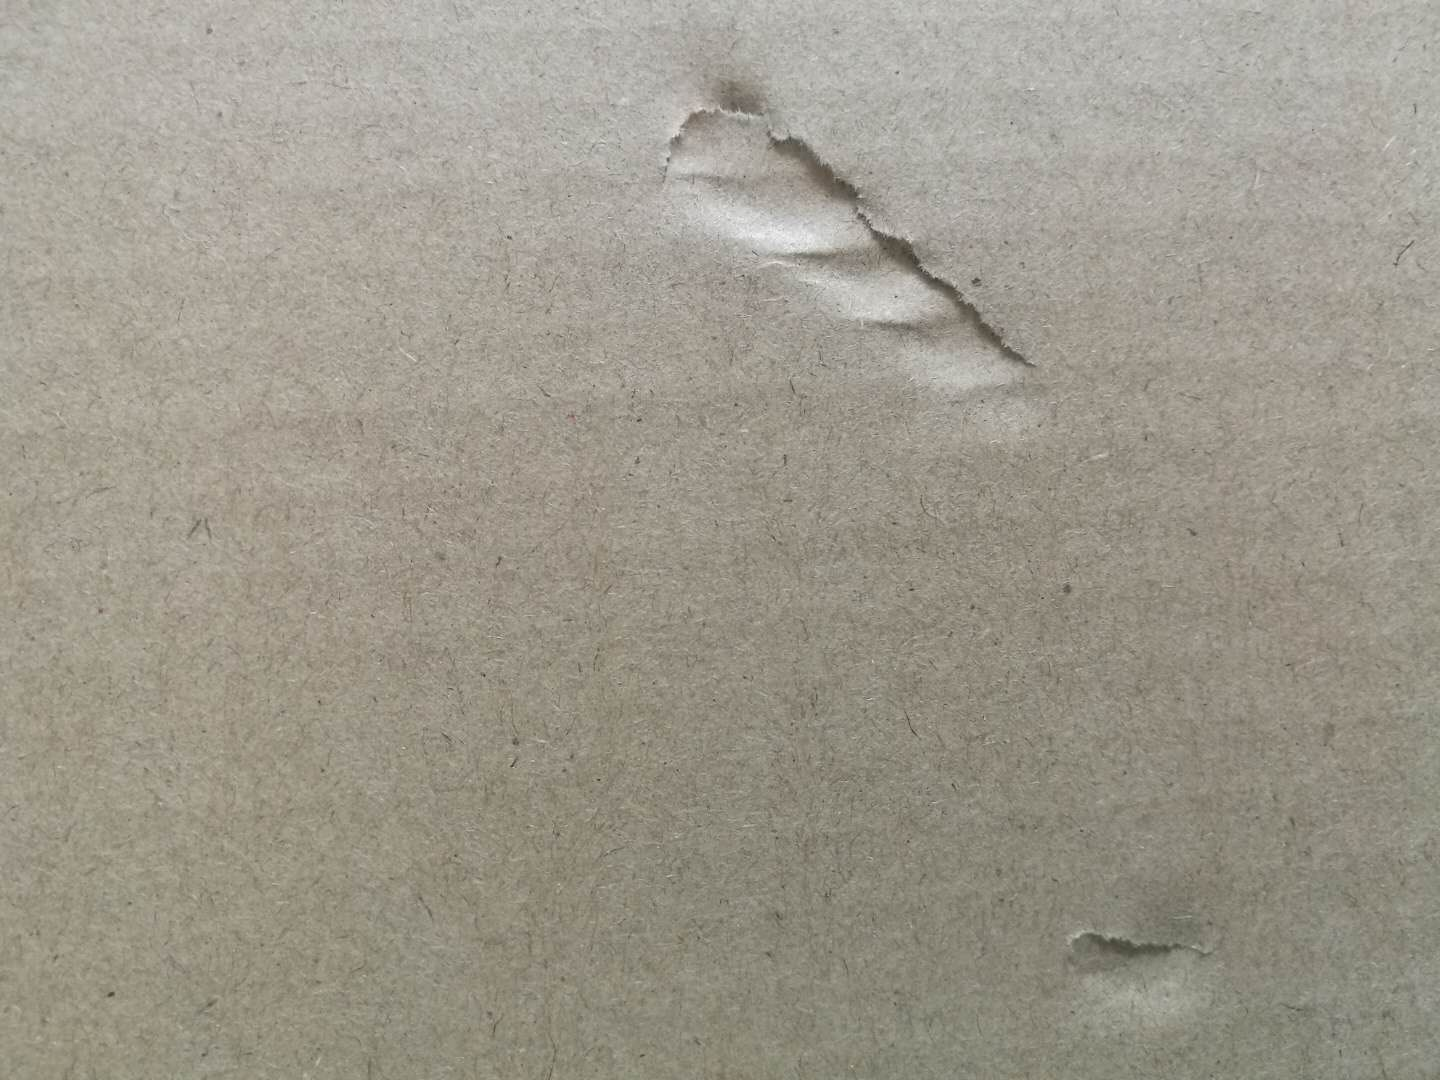defect: (632, 37, 1090, 465), (1042, 886, 1250, 1048)
